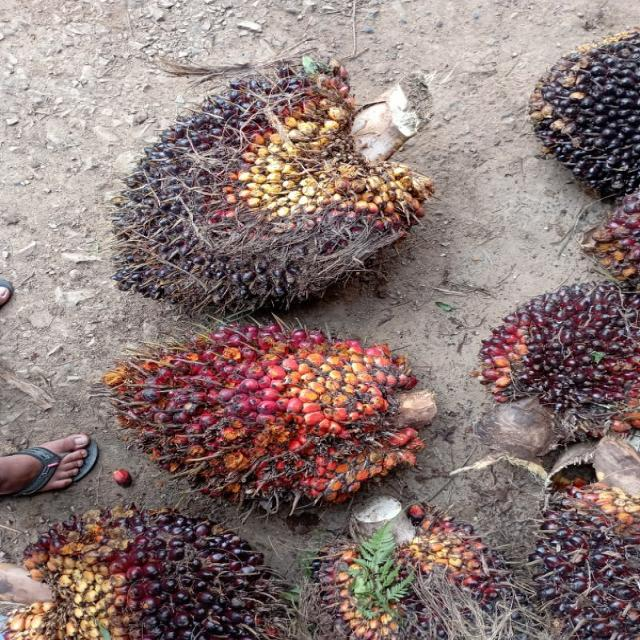fraksi 00: (35, 25, 526, 389)
fraksi 3: (54, 288, 520, 559)
